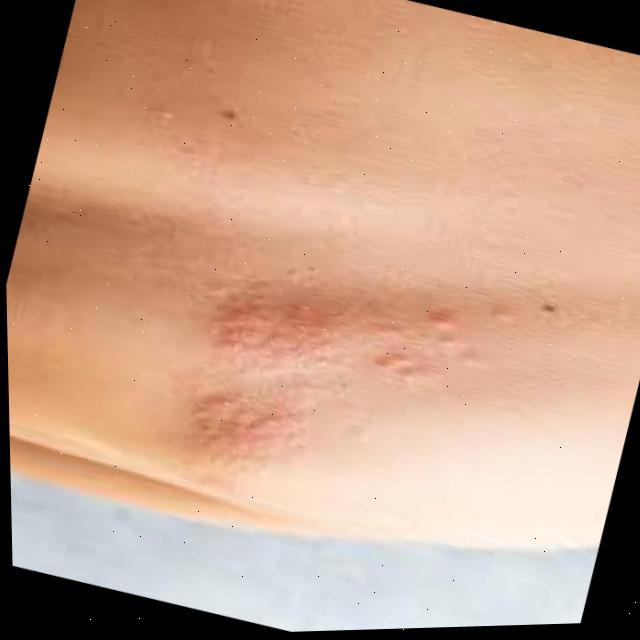Shingles: (174, 267, 483, 531)
